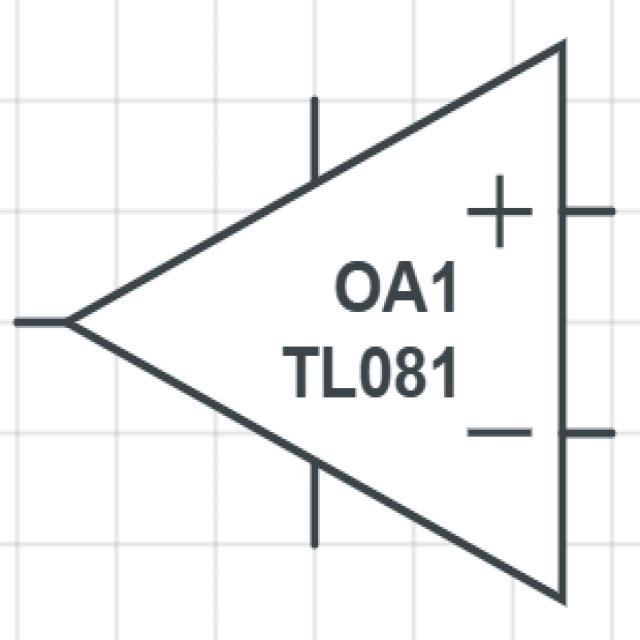ic: (14, 20, 626, 630)
